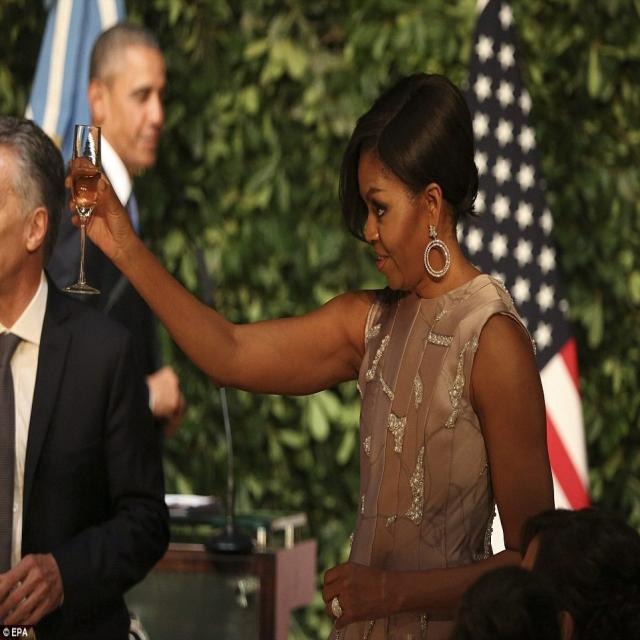body: (61, 70, 562, 640), (0, 109, 172, 639), (49, 16, 188, 448)
